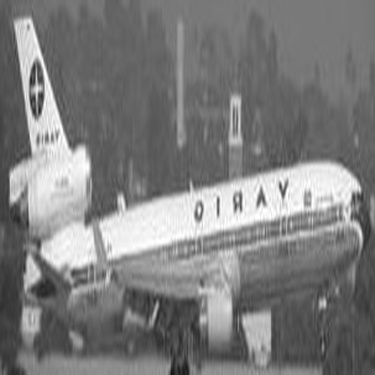airplane: (3, 2, 372, 373)
